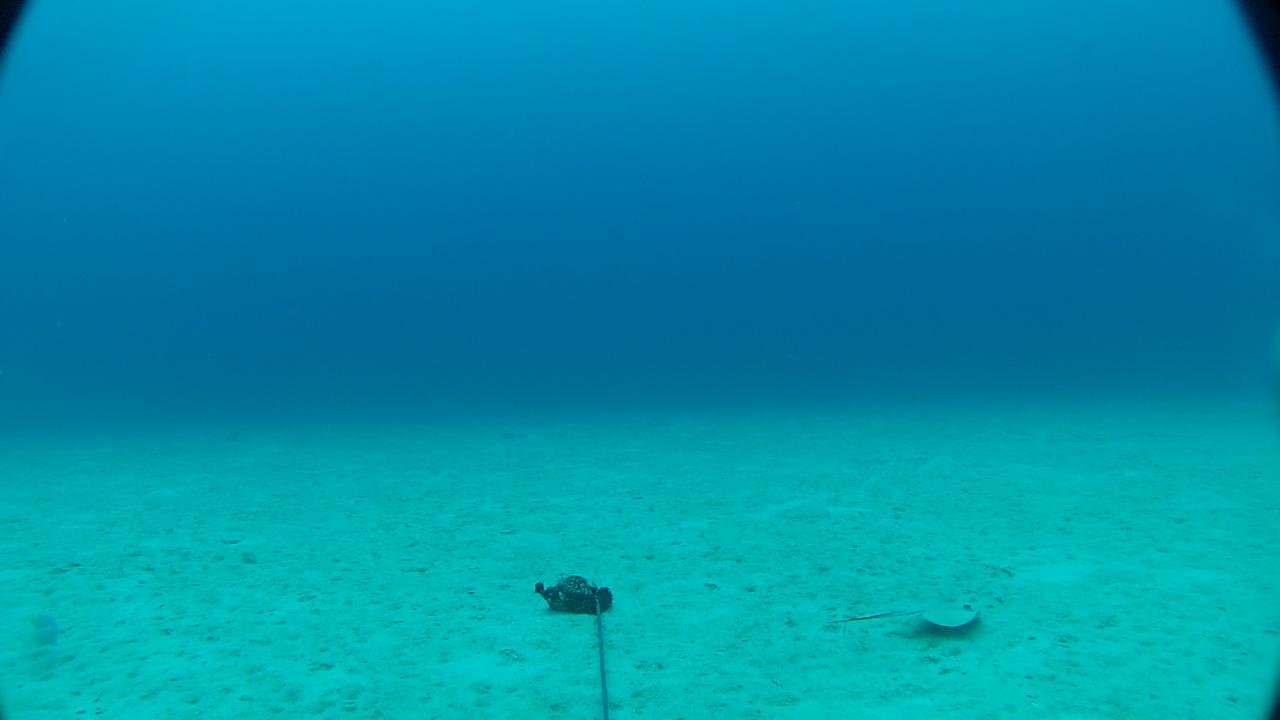dasyatis: (823, 594, 979, 629)
